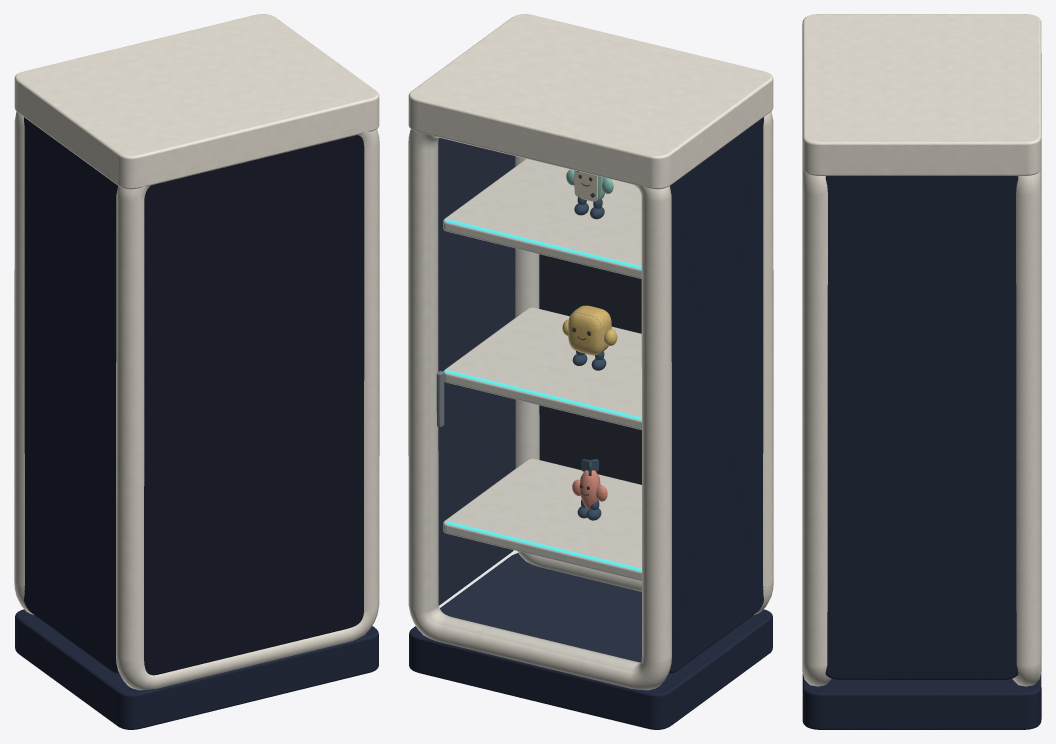
The model's file is prize_showcase.glb.
3 views of the same model, side by side, from view 1: azimuth 30°, elevation 25°; view 2: azimuth 150°, elevation 25°; view 3: azimuth 270°, elevation 25° (orthographic). The views are drawn at different scales.
Parts seen in each view (by area): view 1: BackPanel, SidePanelLeft, TopCanopy, BackFrame, Base, FrontFrame; view 2: SidePanelLeft, TopCanopy, FrontFrame, Base, SidePanelRight, Shelf1, Shelf2, Shelf3, BackPanel, BackFrame, DisplayDiceBody, ShelfTrim1 (+4 smaller); view 3: SidePanelRight, TopCanopy, BackFrame, FrontFrame, Base.
Boxes of the visible parts, left/top/right/bottom form: BackPanel: left=144, top=135, right=364, bottom=675; SidePanelLeft: left=24, top=117, right=118, bottom=673; TopCanopy: left=14, top=14, right=379, bottom=189; BackFrame: left=116, top=127, right=379, bottom=690; Base: left=15, top=609, right=378, bottom=729; FrontFrame: left=14, top=111, right=33, bottom=614; SidePanelLeft: left=669, top=117, right=763, bottom=673; TopCanopy: left=408, top=14, right=773, bottom=189; FrontFrame: left=408, top=128, right=671, bottom=690; Base: left=409, top=553, right=772, bottom=729; SidePanelRight: left=438, top=138, right=515, bottom=605; Shelf1: left=443, top=458, right=641, bottom=581; Shelf2: left=443, top=307, right=641, bottom=429; Shelf3: left=443, top=159, right=641, bottom=278; BackPanel: left=539, top=254, right=641, bottom=484; BackFrame: left=515, top=111, right=773, bottom=614; DisplayDiceBody: left=568, top=305, right=611, bottom=354; ShelfTrim1: left=445, top=521, right=641, bottom=571; SidePanelRight: left=825, top=176, right=1018, bottom=679; TopCanopy: left=802, top=14, right=1041, bottom=175; BackFrame: left=802, top=53, right=831, bottom=686; FrontFrame: left=1012, top=53, right=1041, bottom=686; Base: left=802, top=673, right=1041, bottom=729.
Size of the model in its own units: 0.9 by 1.9 by 0.7.
Materials: 13 (13 with a texture image).
